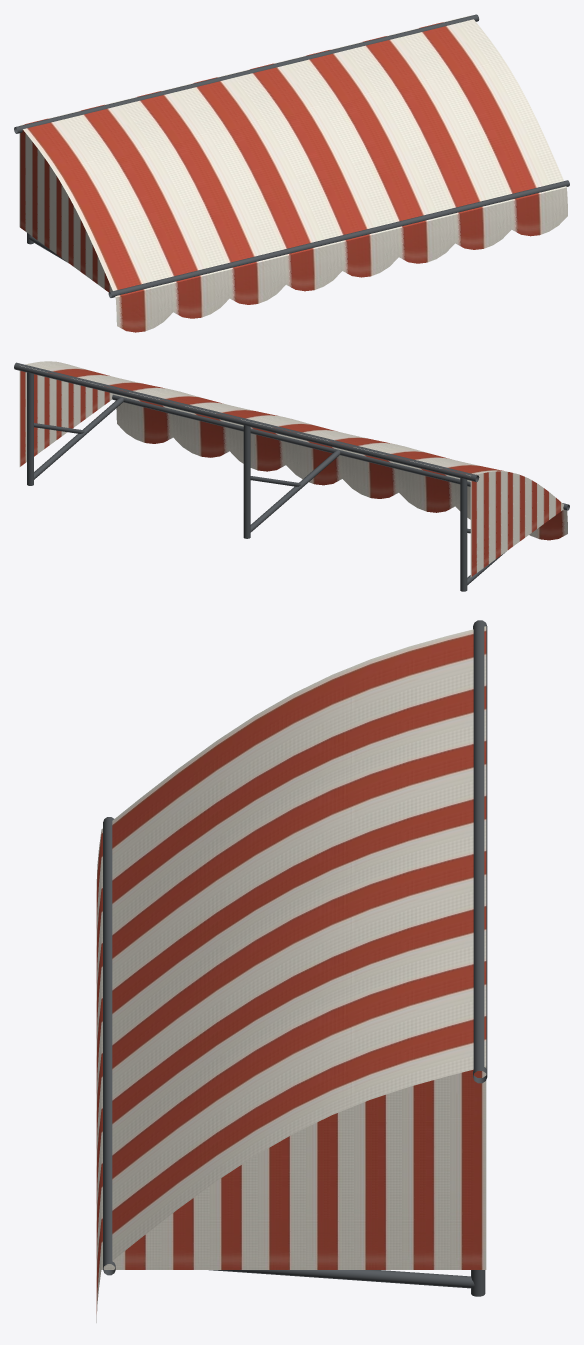
The model's file is prop_awning_striped_aaa-af873eaf7f86.glb.
The picture shows the model from 3 angles, top to bottom: view 1: azimuth 30°, elevation 25°; view 2: azimuth 150°, elevation 25°; view 3: azimuth 270°, elevation 25°; orthographic projection. The views are drawn at different scales.
Visible parts, largest first — view 1: prop_awning_striped_aaa; view 2: prop_awning_striped_aaa; view 3: prop_awning_striped_aaa.
Boxes of the visible parts, x1,y1,x2,y2 form: prop_awning_striped_aaa: (14, 14, 569, 332); prop_awning_striped_aaa: (14, 361, 569, 591); prop_awning_striped_aaa: (96, 620, 487, 1322).
Bounding box in the file's own units: 2.66 × 0.782 × 0.9749.
2 materials, 1 textured.
